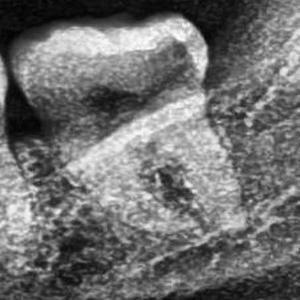tooth: (8, 12, 242, 235)
